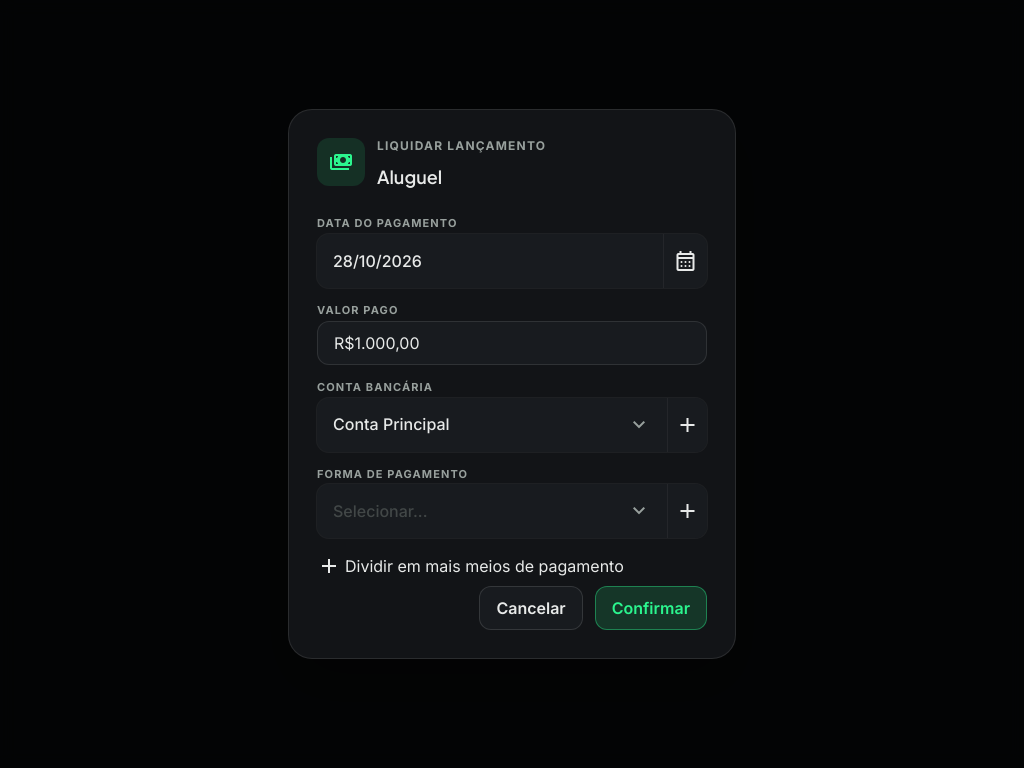
Test case: LiquidarModal › goes to step opcoes with isMenor options when valor is lower
The image size is (1024, 768).
Clear the field showing "1.000" below "Valor pago" at (512, 343), box top-left (317, 320), bottom-right (707, 365)
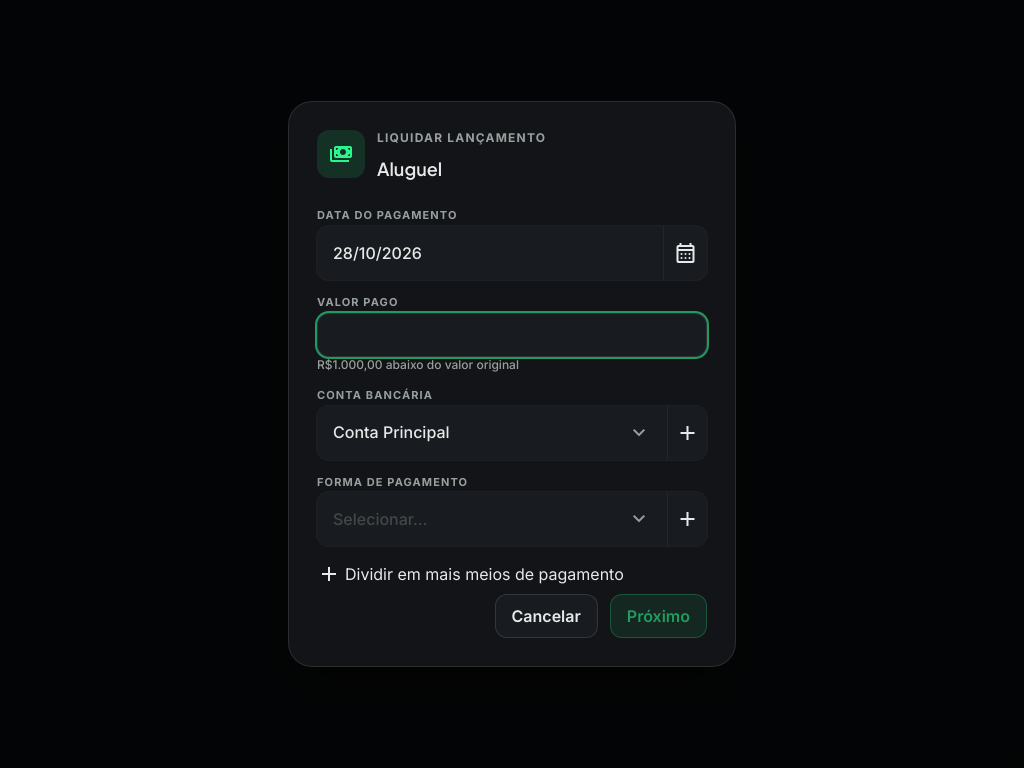
Type "800,00" into the field showing "1.000" below "Valor pago" at (512, 335), box top-left (317, 312), bottom-right (707, 357)
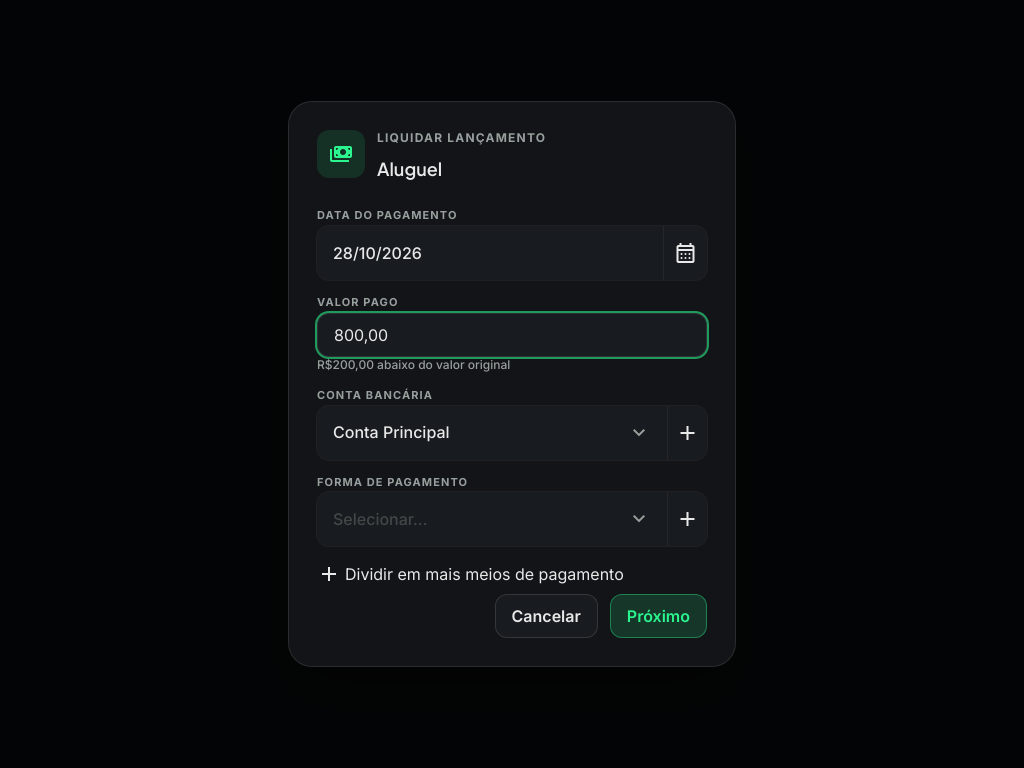
Press Tab
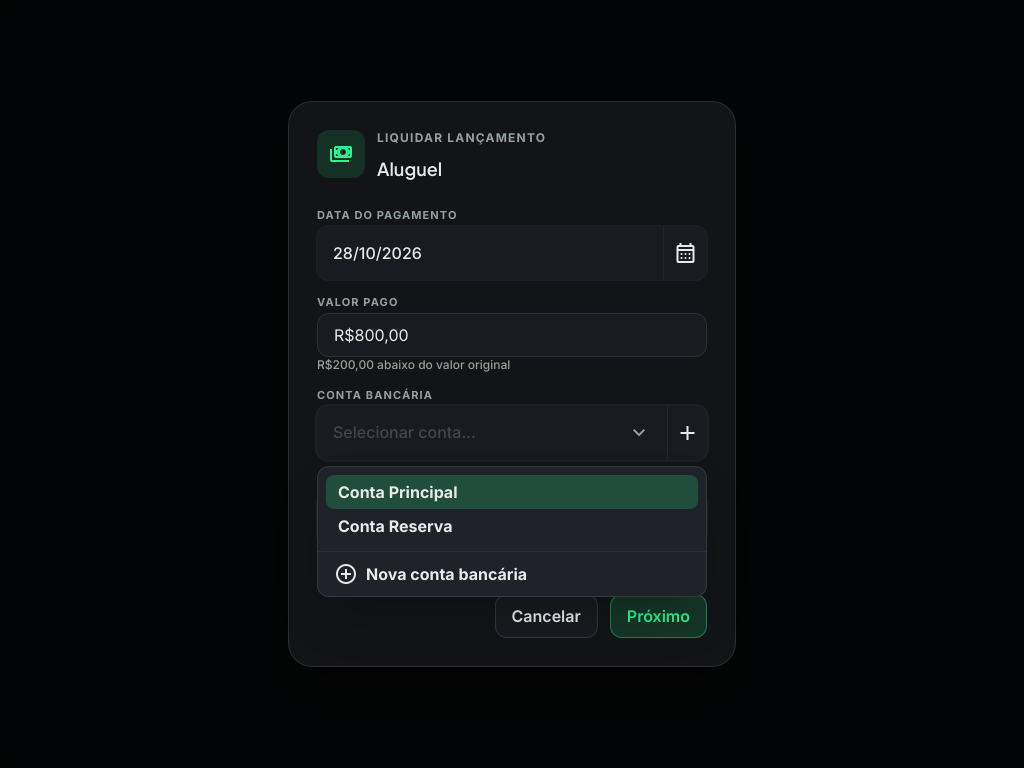
Click the button "Próximo" at (658, 616), box top-left (610, 594), bottom-right (707, 638)
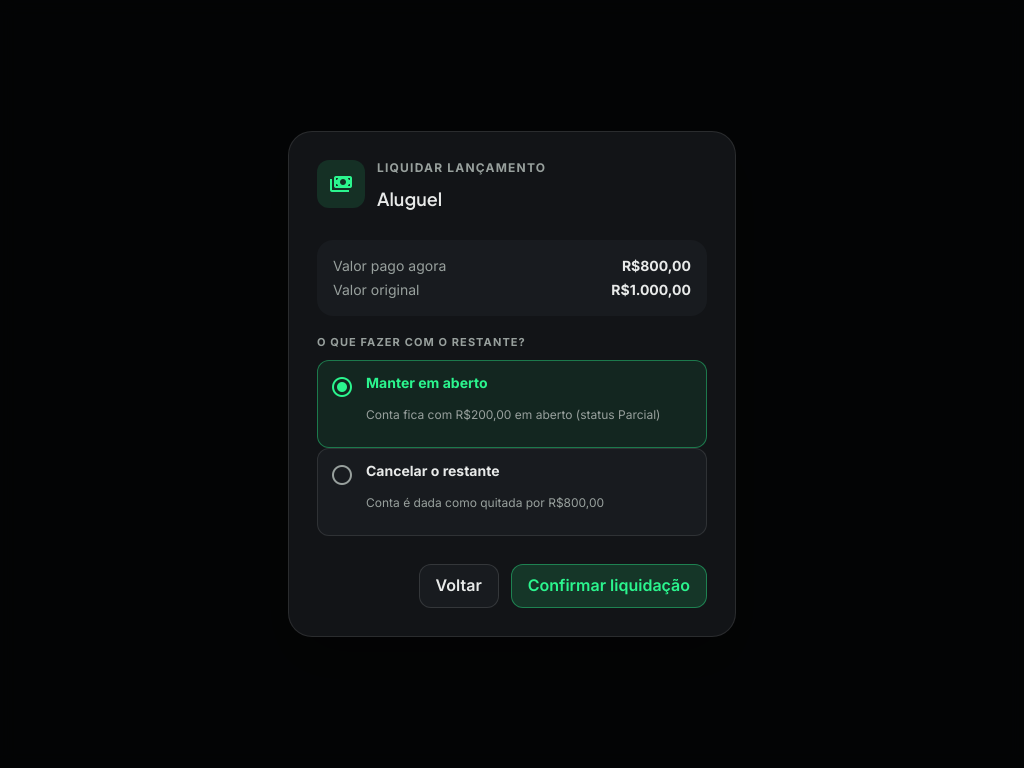
Now the text "O que fazer com o restante?" is shown, box top-left (317, 335), bottom-right (526, 349)
Now the text "Manter em aberto" is shown, box top-left (366, 374), bottom-right (488, 391)
Now the text "Cancelar o restante" is shown, box top-left (366, 462), bottom-right (500, 479)
